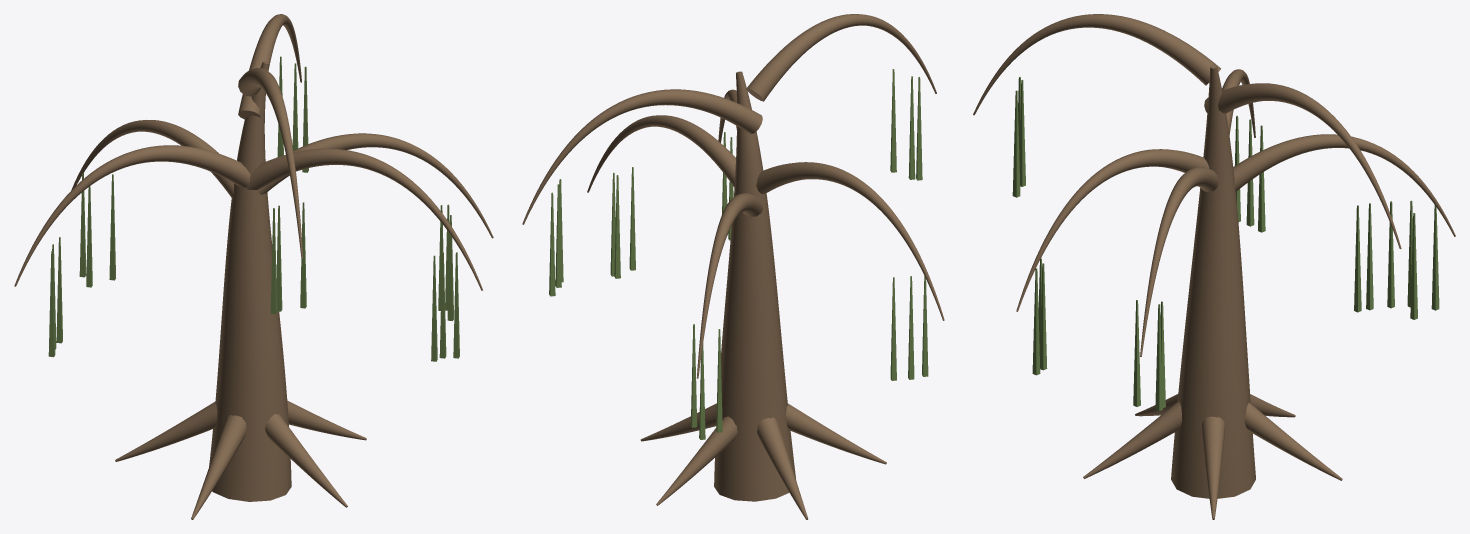
File: willow.glb
3 renders of one model, left to right at view 1: azimuth 30°, elevation 25°; view 2: azimuth 150°, elevation 25°; view 3: azimuth 270°, elevation 25°, orthographic. The views are drawn at different scales.
Visible parts, largest first — view 1: willow; view 2: willow; view 3: willow.
Part boxes in pixels (<box>): willow: <box>14,14,493,519</box>; willow: <box>522,14,944,519</box>; willow: <box>973,14,1455,519</box>.
Bounding box in the file's own units: 2.54 × 2.58 × 2.49.
